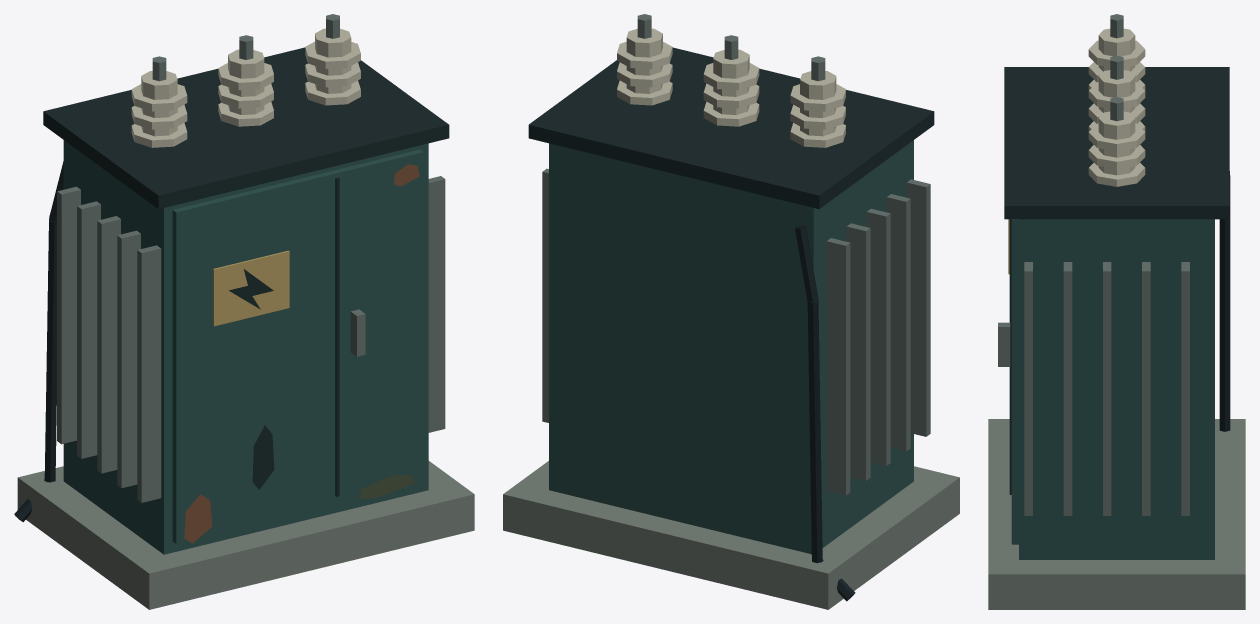
File: v115-yard-utility-transformer.glb
3 renders of one model, left to right at view 1: azimuth 30°, elevation 25°; view 2: azimuth 150°, elevation 25°; view 3: azimuth 270°, elevation 25°, orthographic. The views are drawn at different scales.
Visible parts, largest first — view 1: utility-transformer; view 2: utility-transformer; view 3: utility-transformer.
Part boxes in pixels (<box>): utility-transformer: <box>14,14,474,609</box>; utility-transformer: <box>503,14,959,609</box>; utility-transformer: <box>988,14,1245,609</box>.
Bounding box in the file's own units: 1.56 × 2.13 × 1.05.
